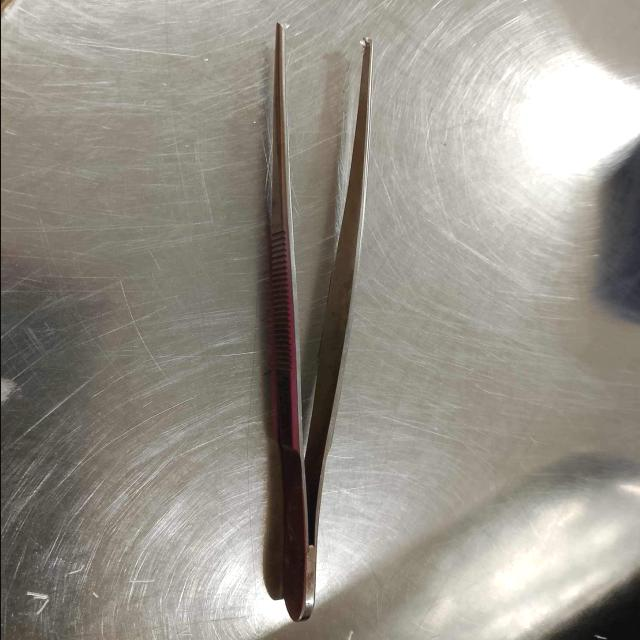General: (262, 20, 376, 622)
Pathological: (3, 2, 638, 637)
